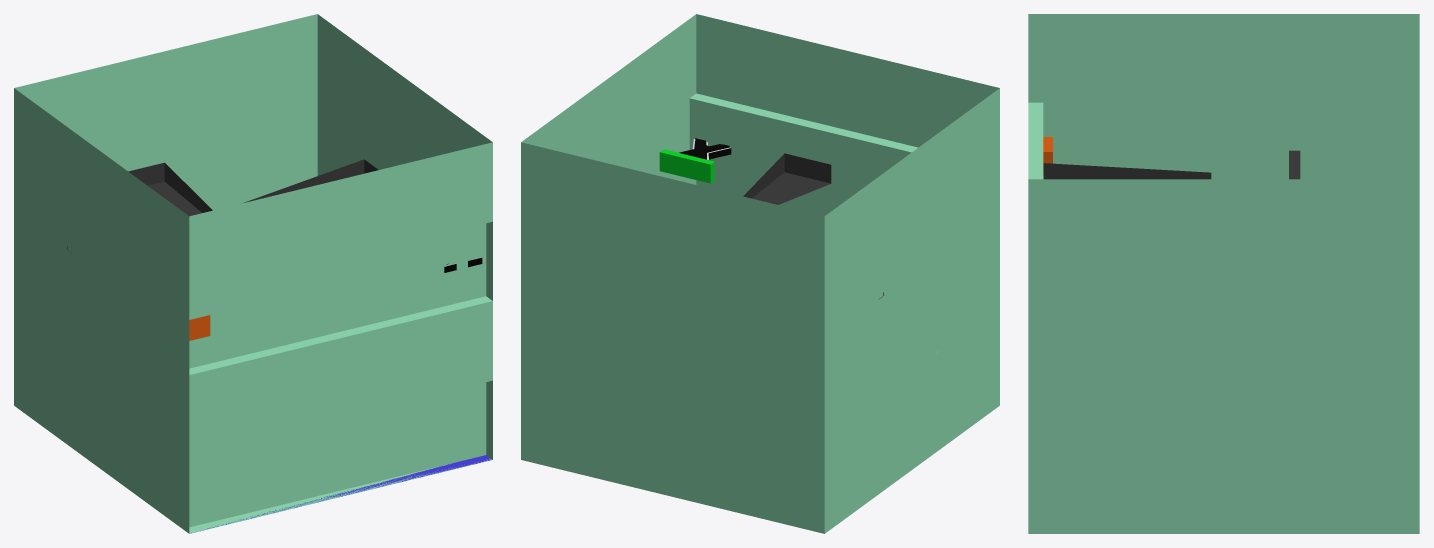
Rendered from PocketRocketLVL1.fbx.
3 renders of one model, left to right at view 1: azimuth 30°, elevation 25°; view 2: azimuth 150°, elevation 25°; view 3: azimuth 270°, elevation 25°, orthographic. The views are drawn at different scales.
Visible parts, largest first — view 1: Level 1 Frame, Obstacle 2, Obstacle 4; view 2: Level 1 Frame, Obstacle 3, Landing Pad, X; view 3: Level 1 Frame, Obstacle 1.
Part boxes in pixels (x1=…): Level 1 Frame: x1=14, y1=14, x2=492, y2=533; Obstacle 2: x1=128, y1=162, x2=212, y2=216; Obstacle 4: x1=67, y1=159, x2=378, y2=252; Level 1 Frame: x1=521, y1=14, x2=999, y2=533; Obstacle 3: x1=743, y1=153, x2=831, y2=204; Landing Pad: x1=659, y1=149, x2=714, y2=183; X: x1=679, y1=138, x2=731, y2=159; Level 1 Frame: x1=1028, y1=14, x2=1419, y2=533; Obstacle 1: x1=1043, y1=163, x2=1211, y2=179.
Size of the model in its own units: 2624 by 2633 by 2620.
